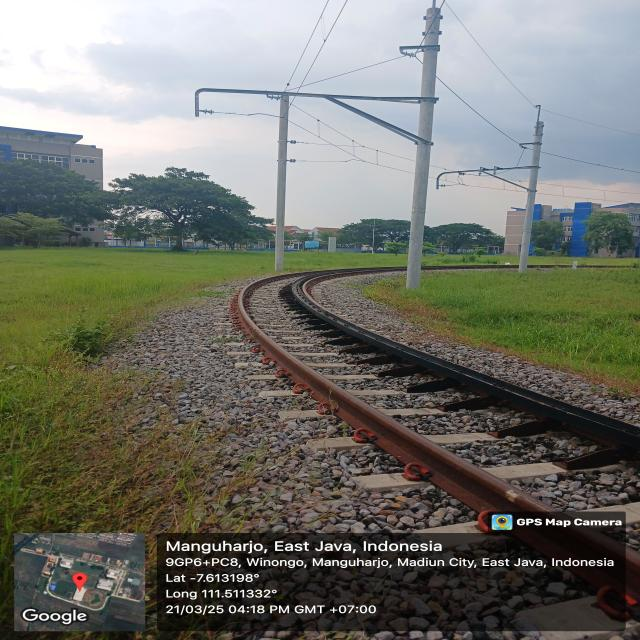rail-detection: (238, 267, 640, 520), (518, 528, 640, 603), (421, 265, 501, 271)
